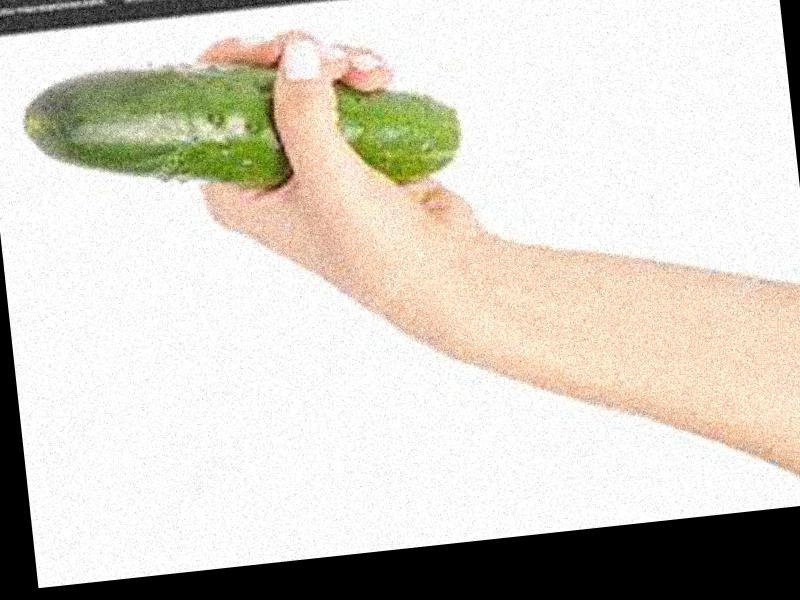Cucumber: (15, 33, 462, 220)
